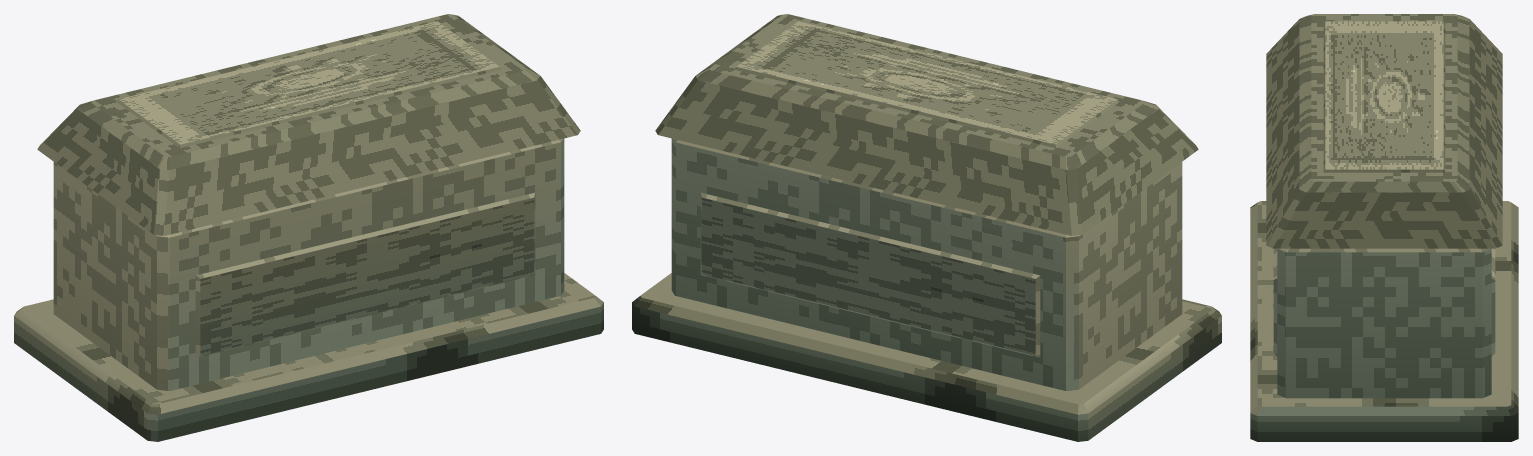
File: relic.sarcophagus.glb
3 views of the same model, side by side, from view 1: azimuth 30°, elevation 25°; view 2: azimuth 150°, elevation 25°; view 3: azimuth 270°, elevation 25° (orthographic). The views are drawn at different scales.
Parts seen in each view (by area): view 1: kit_lid, kit_chest, kit_plinth, kit_glyph_bands; view 2: kit_lid, kit_chest, kit_plinth, kit_glyph_bands; view 3: kit_lid, kit_chest, kit_plinth, kit_glyph_bands.
Part boxes in pixels (box(x1,y1,x2,y2)): kit_lid: box(37, 14, 580, 235); kit_chest: box(53, 138, 564, 390); kit_plinth: box(14, 273, 603, 441); kit_glyph_bands: box(195, 192, 535, 357); kit_lid: box(655, 14, 1198, 235); kit_chest: box(671, 138, 1182, 390); kit_plinth: box(632, 273, 1221, 441); kit_glyph_bands: box(700, 192, 1040, 357); kit_lid: box(1266, 14, 1502, 248); kit_chest: box(1277, 248, 1491, 398); kit_plinth: box(1250, 201, 1518, 441); kit_glyph_bands: box(1273, 248, 1495, 356).
Size of the model in its own units: 2.8 by 1.49 by 1.5.
Materials: 5 (5 with a texture image).
